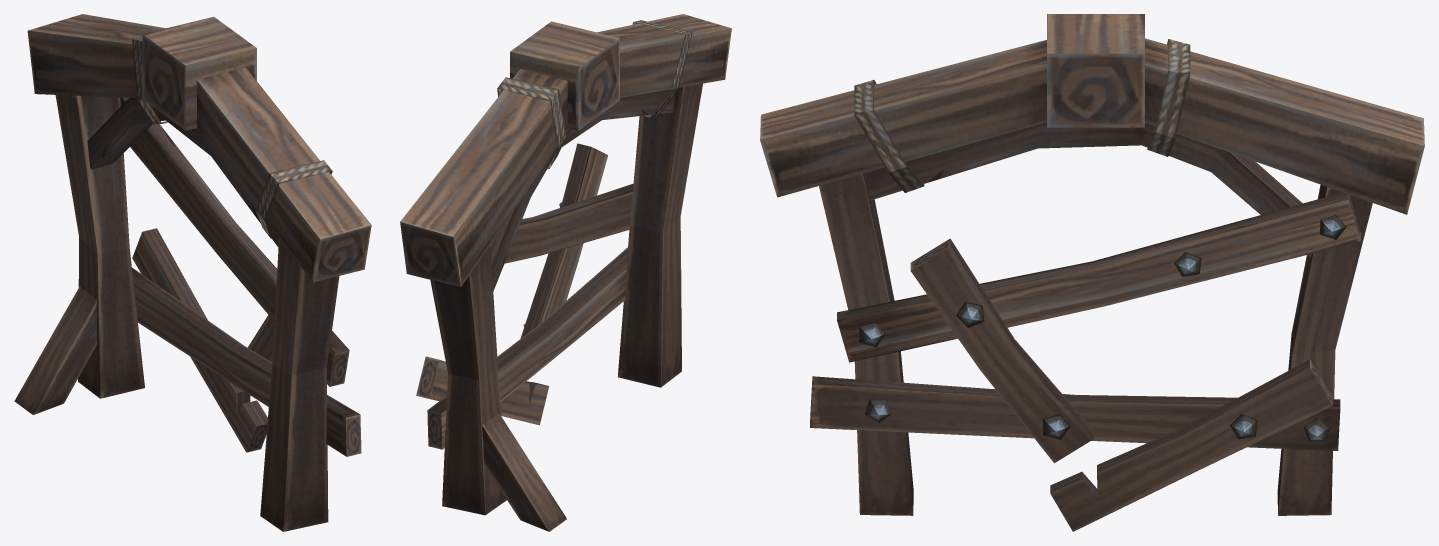
The model's file is mine_baricade_support01.fbx.
3 views of the same model, side by side, from view 1: azimuth 30°, elevation 25°; view 2: azimuth 150°, elevation 25°; view 3: azimuth 270°, elevation 25° (orthographic). The views are drawn at different scales.
Visible parts, largest first — view 1: obj2; view 2: obj2; view 3: obj2.
Boxes of the visible parts, left/top/right/bottom form: obj2: left=14, top=14, right=371, bottom=531; obj2: left=400, top=14, right=731, bottom=531; obj2: left=760, top=14, right=1424, bottom=531.
Bounding box in the file's own units: 2.35 × 6.38 × 8.18.
